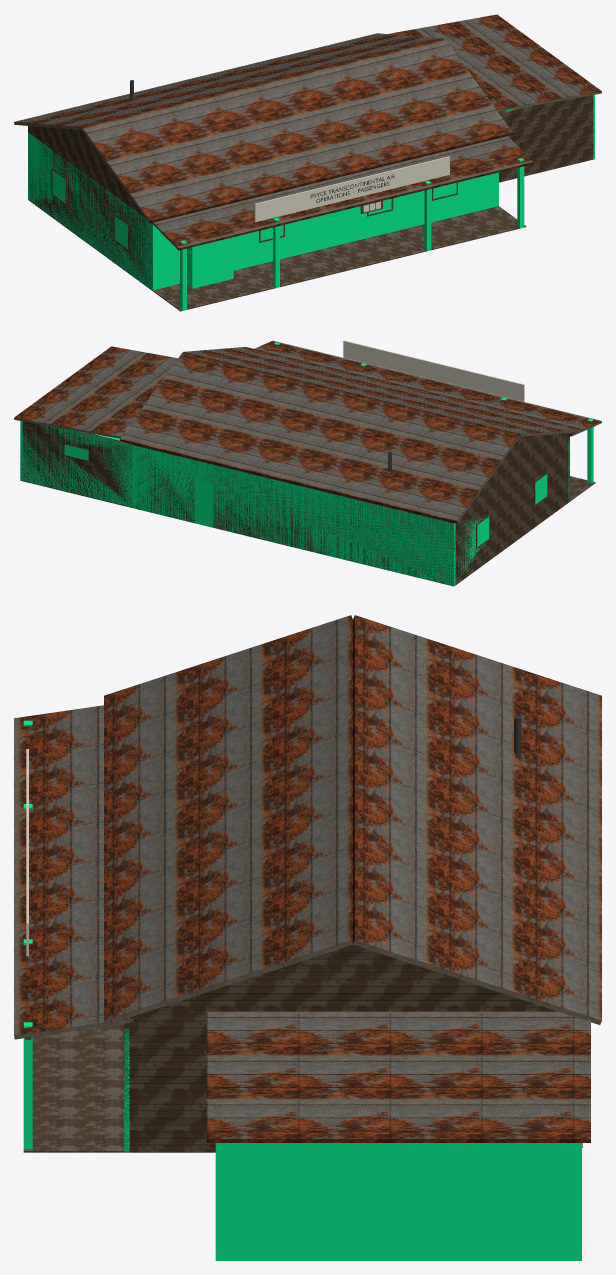
The model's file is ops_building.glb.
3 views of the same model, one above another, from view 1: azimuth 30°, elevation 25°; view 2: azimuth 150°, elevation 25°; view 3: azimuth 270°, elevation 25° (orthographic). The views are drawn at different scales.
Parts seen in each view (by area): view 1: OpsBuilding, Ops_Annex, COL_ops_w0, COL_ops_s1, COL_ops_s0, COL_ops_bench, COL_Door_Ops, COL_ops_post_7.8, COL_ops_post_3.5, COL_ops_post_-3.5, COL_ops_post_-7.8; view 2: OpsBuilding, COL_ops_n0, Ops_Annex, COL_ax_n, COL_ops_n1, COL_ops_w0, COL_Door_OpsBack, COL_ops_post_-7.8; view 3: OpsBuilding, Ops_Annex, COL_ax_e, COL_ops_post_7.8.
Boxes of the visible parts, bbox=[...] form: OpsBuilding: bbox=[14, 33, 533, 311]; Ops_Annex: bbox=[389, 14, 601, 182]; COL_ops_w0: bbox=[28, 133, 152, 290]; COL_ops_s1: bbox=[338, 172, 498, 245]; COL_ops_s0: bbox=[151, 217, 313, 290]; COL_ops_bench: bbox=[187, 237, 233, 288]; COL_Door_Ops: bbox=[314, 211, 337, 250]; COL_ops_post_7.8: bbox=[517, 158, 524, 228]; COL_ops_post_3.5: bbox=[424, 180, 431, 251]; COL_ops_post_-3.5: bbox=[273, 217, 279, 287]; COL_ops_post_-7.8: bbox=[180, 240, 186, 310]; OpsBuilding: bbox=[119, 340, 601, 585]; COL_ops_n0: bbox=[213, 465, 455, 586]; Ops_Annex: bbox=[14, 346, 177, 507]; COL_ax_n: bbox=[20, 424, 132, 507]; COL_ops_n1: bbox=[133, 446, 194, 522]; COL_ops_w0: bbox=[451, 474, 547, 585]; COL_Door_OpsBack: bbox=[195, 460, 212, 527]; COL_ops_post_-7.8: bbox=[587, 418, 593, 483]; OpsBuilding: bbox=[14, 615, 601, 1152]; Ops_Annex: bbox=[206, 1011, 590, 1147]; COL_ax_e: bbox=[215, 1143, 581, 1260]; COL_ops_post_7.8: bbox=[23, 1022, 32, 1148].
Size of the model in its own units: 22.2 by 5.31 by 12.85.
Materials: 29 (8 with a texture image).
